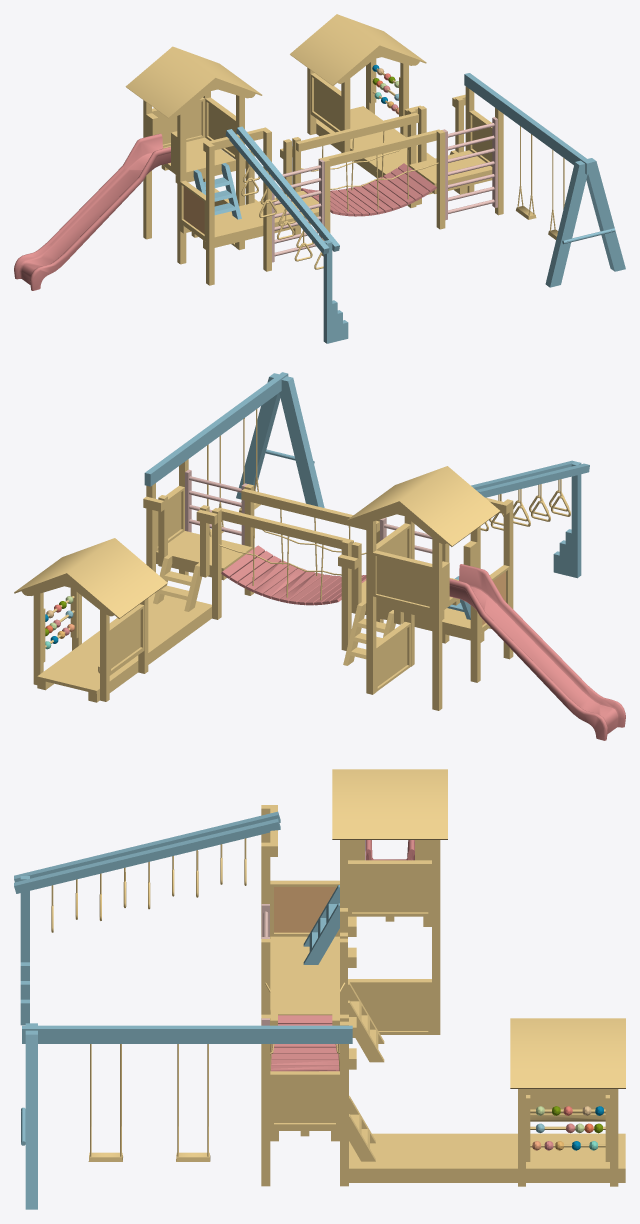
File: BetterPlayground.fbx
The picture shows the model from 3 angles, top to bottom: view 1: azimuth 30°, elevation 25°; view 2: azimuth 150°, elevation 25°; view 3: azimuth 270°, elevation 25°; orthographic projection. The views are drawn at different scales.
Parts seen in each view (by area): view 1: 物件_9; view 2: 物件_9; view 3: 物件_9.
Boxes of the visible parts, <box> form: 物件_9: <box>14,14,625,343</box>; 物件_9: <box>14,372,625,740</box>; 物件_9: <box>14,769,625,1209</box>.
Bounding box in the file's own units: 2248 × 829 × 1880.
